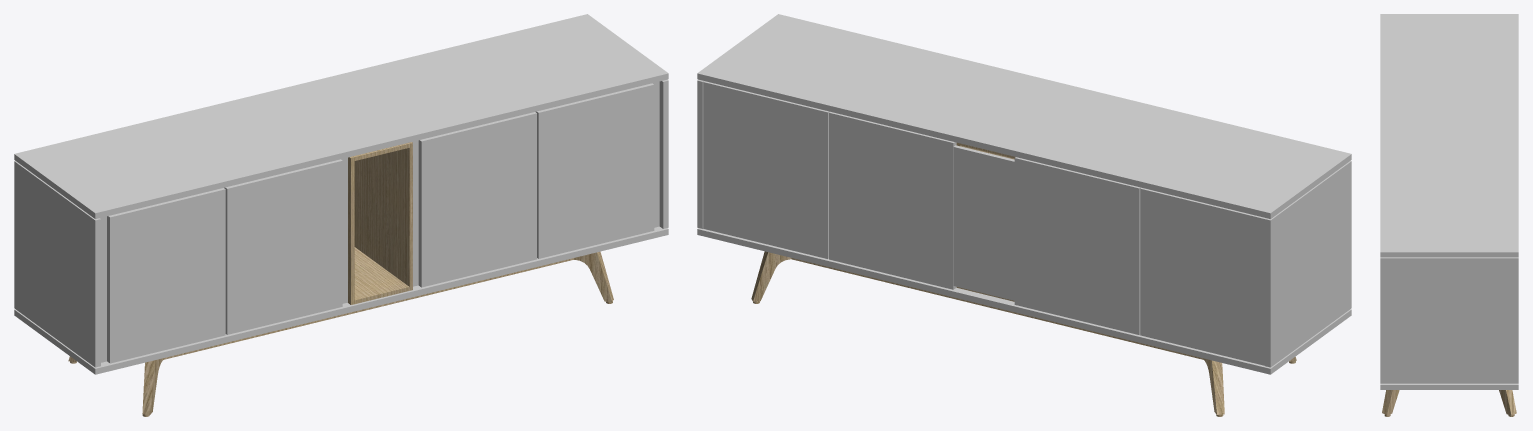
Rendered from Furniture_Shelving-Storage_CIDER-LA-MANUFACTURE_Gregor-Buffet.fbx.
The picture shows the model from 3 angles, left to right: view 1: azimuth 30°, elevation 25°; view 2: azimuth 150°, elevation 25°; view 3: azimuth 270°, elevation 25°; orthographic projection. The views are drawn at different scales.
Visible parts, largest first — view 1: L_ec93613e_e59d_4e13_87f0_b6236841c5a4_I29, L_296ff48f_18b0_42cf_add9_0009879f6fa5_I6, L_ceca2911_a0e0_48cb_9add_3e45dd7ddded_I24, L_3b4df4a1_6fda_42a2_ad80_88bb339690b8_I7, L_46c74947_e5e5_4c1f_8afb_aa9a894655a6_I11, L_265f2f5f_ca62_4e90_bd89_0c7c4c953bb6_I5, L_7b1a9f38_4746_4e39_ad55_8ec9d22e969c_C1_I17, L_429fd8a5_c0f9_46a8_b977_e399d349b6a7_I9, L_cf5f7b39_ba63_47e9_91b5_09bff7a0ee9f_I25, L_e8f6431f_cb6c_4b06_9de0_c89d7b8f1354_C1_I28, L_b218d432_ad46_4060_a107_1addb00bc9ed_I22, L_24963f3e_bb20_47fb_bf0e_ad5b9f634230_I4 (+4 smaller); view 2: L_ec93613e_e59d_4e13_87f0_b6236841c5a4_I29, L_6c801ba0_11d7_45b6_9ebe_47dc42d53842_I14, L_3cedd055_38e2_4406_a172_9e8d99db24db_I8, L_42f3fd1f_9ddf_4840_a590_9ee1da83de25_I10, L_026f076f_f33f_470c_bd4f_ff37f41d65fd_I1, L_265f2f5f_ca62_4e90_bd89_0c7c4c953bb6_I5, L_776e23a0_68db_4f84_ad4e_afb838d95a5e_I15, L_429fd8a5_c0f9_46a8_b977_e399d349b6a7_I9, L_cf5f7b39_ba63_47e9_91b5_09bff7a0ee9f_I25, L_e8f6431f_cb6c_4b06_9de0_c89d7b8f1354_C1_I28, L_48968446_23f5_4549_81ac_dc68549614f7_C1_I12, L_c4e8bb3d_a702_4e00_b958_0470b4aeef6e_C1_I23; view 3: L_ec93613e_e59d_4e13_87f0_b6236841c5a4_I29, L_cf5f7b39_ba63_47e9_91b5_09bff7a0ee9f_I25, L_429fd8a5_c0f9_46a8_b977_e399d349b6a7_I9, L_48968446_23f5_4549_81ac_dc68549614f7_C1_I12, L_94cdacf3_1899_4ea4_875c_a30f84c542cb_C1_I20.
Boxes of the visible parts, x1,y1,x2,y2 form: L_ec93613e_e59d_4e13_87f0_b6236841c5a4_I29: (14, 14, 668, 218); L_296ff48f_18b0_42cf_add9_0009879f6fa5_I6: (107, 188, 225, 363); L_ceca2911_a0e0_48cb_9add_3e45dd7ddded_I24: (418, 112, 536, 287); L_3b4df4a1_6fda_42a2_ad80_88bb339690b8_I7: (224, 159, 342, 334); L_46c74947_e5e5_4c1f_8afb_aa9a894655a6_I11: (535, 83, 654, 258); L_265f2f5f_ca62_4e90_bd89_0c7c4c953bb6_I5: (14, 161, 100, 367); L_7b1a9f38_4746_4e39_ad55_8ec9d22e969c_C1_I17: (348, 142, 412, 304); L_429fd8a5_c0f9_46a8_b977_e399d349b6a7_I9: (14, 226, 668, 374); L_cf5f7b39_ba63_47e9_91b5_09bff7a0ee9f_I25: (659, 79, 668, 228); L_e8f6431f_cb6c_4b06_9de0_c89d7b8f1354_C1_I28: (163, 258, 573, 359); L_b218d432_ad46_4060_a107_1addb00bc9ed_I22: (653, 81, 659, 227); L_24963f3e_bb20_47fb_bf0e_ad5b9f634230_I4: (412, 140, 418, 286); L_ec93613e_e59d_4e13_87f0_b6236841c5a4_I29: (697, 14, 1351, 218); L_6c801ba0_11d7_45b6_9ebe_47dc42d53842_I14: (1014, 157, 1140, 334); L_3cedd055_38e2_4406_a172_9e8d99db24db_I8: (703, 81, 829, 258); L_42f3fd1f_9ddf_4840_a590_9ee1da83de25_I10: (829, 111, 956, 289); L_026f076f_f33f_470c_bd4f_ff37f41d65fd_I1: (1140, 187, 1265, 365); L_265f2f5f_ca62_4e90_bd89_0c7c4c953bb6_I5: (1265, 161, 1351, 367); L_776e23a0_68db_4f84_ad4e_afb838d95a5e_I15: (953, 145, 1014, 300); L_429fd8a5_c0f9_46a8_b977_e399d349b6a7_I9: (697, 228, 1351, 374); L_cf5f7b39_ba63_47e9_91b5_09bff7a0ee9f_I25: (697, 79, 704, 228); L_e8f6431f_cb6c_4b06_9de0_c89d7b8f1354_C1_I28: (791, 258, 1203, 359); L_48968446_23f5_4549_81ac_dc68549614f7_C1_I12: (751, 251, 791, 301); L_c4e8bb3d_a702_4e00_b958_0470b4aeef6e_C1_I23: (1204, 358, 1224, 414); L_ec93613e_e59d_4e13_87f0_b6236841c5a4_I29: (1380, 14, 1518, 257); L_cf5f7b39_ba63_47e9_91b5_09bff7a0ee9f_I25: (1380, 257, 1518, 383); L_429fd8a5_c0f9_46a8_b977_e399d349b6a7_I9: (1380, 383, 1518, 389); L_48968446_23f5_4549_81ac_dc68549614f7_C1_I12: (1499, 390, 1516, 415); L_94cdacf3_1899_4ea4_875c_a30f84c542cb_C1_I20: (1382, 390, 1399, 415).
Size of the model in its own units: 1836 by 450 by 669.
2 materials, 1 textured.
